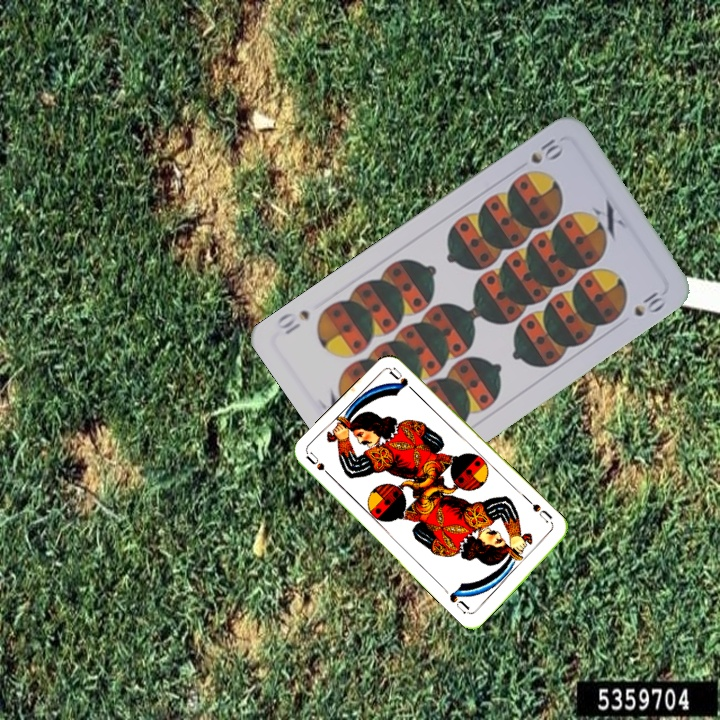S10: (526, 134, 567, 167)
SU: (303, 449, 337, 483), (524, 496, 556, 529)
